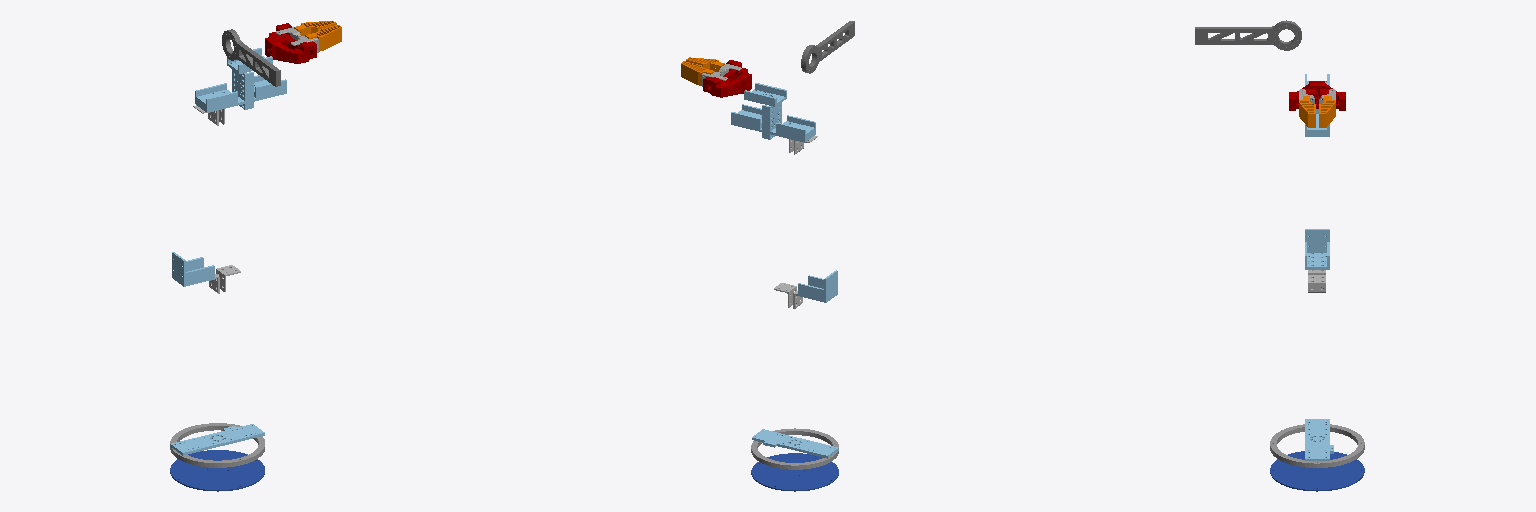
The robot description file, URDF, robot "rescue_rangers_arm":
<?xml version="1.0" ?>
<!-- Generated using onshape-to-robot -->
<!-- Onshape document_id: dccc9867c88f4c00ebd285c5 / workspace_id: 4d6b4b67b32ea734f124cf6d -->
<robot name="rescue_rangers_arm">
  <!-- Link part_5 -->
  <link name="part_5">
    <inertial>
      <origin xyz="0 0 0" rpy="0 0 0"/>
      <mass value="1e-09"/>
      <inertia ixx="1e-09" ixy="0" ixz="0" iyy="1e-09" iyz="0" izz="1e-09"/>
    </inertial>
    <!-- Part part_2 -->
    <visual>
      <origin xyz="0 0 0.07648" rpy="0 -0 0"/>
      <geometry>
        <mesh filename="package://rover_description/RescueRangersArmMeshes/part_2.stl"/>
      </geometry>
      <material name="part_2_material">
        <color rgba="0.647059 0.647059 0.647059 1"/>
      </material>
    </visual>
    <collision>
      <origin xyz="0 0 0.07648" rpy="0 -0 0"/>
      <geometry>
        <mesh filename="package://rover_description/RescueRangersArmMeshes/part_2.stl"/>
      </geometry>
    </collision>
    <!-- Part part_5 -->
    <visual>
      <origin xyz="0 0 0.07648" rpy="0 -0 0"/>
      <geometry>
        <mesh filename="package://rover_description/RescueRangersArmMeshes/part_5.stl"/>
      </geometry>
      <material name="part_5_material">
        <color rgba="0.917647 0.917647 0.917647 1"/>
      </material>
    </visual>
    <collision>
      <origin xyz="0 0 0.07648" rpy="0 -0 0"/>
      <geometry>
        <mesh filename="package://rover_description/RescueRangersArmMeshes/part_5.stl"/>
      </geometry>
    </collision>
    <!-- Part part_4 -->
    <visual>
      <origin xyz="0 0 0.07648" rpy="0 -0 0"/>
      <geometry>
        <mesh filename="package://rover_description/RescueRangersArmMeshes/part_4.stl"/>
      </geometry>
      <material name="part_4_material">
        <color rgba="0.231373 0.380392 0.705882 1"/>
      </material>
    </visual>
    <collision>
      <origin xyz="0 0 0.07648" rpy="0 -0 0"/>
      <geometry>
        <mesh filename="package://rover_description/RescueRangersArmMeshes/part_4.stl"/>
      </geometry>
    </collision>
    <!-- Part h42p_020_s300_r_dummy2 -->
    <visual>
      <origin xyz="0 0 0.07796" rpy="0 -0 0"/>
      <geometry>
        <mesh filename="package://rover_description/RescueRangersArmMeshes/h42p_020_s300_r_dummy2.stl"/>
      </geometry>
      <material name="h42p_020_s300_r_dummy2_material">
        <color rgba="0.647059 0.647059 0.647059 1"/>
      </material>
    </visual>
    <collision>
      <origin xyz="0 0 0.07796" rpy="0 -0 0"/>
      <geometry>
        <mesh filename="package://rover_description/RescueRangersArmMeshes/h42p_020_s300_r_dummy2.stl"/>
      </geometry>
    </collision>
  </link>
  <!-- Link part_5_2 -->
  <link name="part_5_2">
    <inertial>
      <origin xyz="0.0571222 -2.14999e-05 -0.0417006" rpy="0 0 0"/>
      <mass value="0.429704"/>
      <inertia ixx="0.000156694" ixy="5.7855e-08" ixz="-4.85178e-07" iyy="0.000333664" iyz="-1.9257e-08" izz="0.000305476"/>
    </inertial>
    <!-- Part h42p_020_s300_r_dummy2_2 -->
    <visual>
      <origin xyz="0.0696944 -0.0210112 -0.04605" rpy="-1.5708 0 -0"/>
      <geometry>
        <mesh filename="package://rover_description/RescueRangersArmMeshes/h42p_020_s300_r_dummy2__2.stl"/>
      </geometry>
      <material name="h42p_020_s300_r_dummy2_2_material">
        <color rgba="0.647059 0.647059 0.647059 1"/>
      </material>
    </visual>
    <collision>
      <origin xyz="0.0696944 -0.0210112 -0.04605" rpy="-1.5708 0 -0"/>
      <geometry>
        <mesh filename="package://rover_description/RescueRangersArmMeshes/h42p_020_s300_r_dummy2__2.stl"/>
      </geometry>
    </collision>
    <!-- Part j2 -->
    <visual>
      <origin xyz="-5.6e-06 -1.12e-05 -0.01235" rpy="3.14159 -0 0"/>
      <geometry>
        <mesh filename="package://rover_description/RescueRangersArmMeshes/j2.stl"/>
      </geometry>
      <material name="j2_material">
        <color rgba="0.615686 0.811765 0.929412 1"/>
      </material>
    </visual>
    <collision>
      <origin xyz="-5.6e-06 -1.12e-05 -0.01235" rpy="3.14159 -0 0"/>
      <geometry>
        <mesh filename="package://rover_description/RescueRangersArmMeshes/j2.stl"/>
      </geometry>
    </collision>
    <!-- Part part_5_2 -->
    <visual>
      <origin xyz="-5.6e-06 -1.12e-05 -0.01235" rpy="3.14159 -0 0"/>
      <geometry>
        <mesh filename="package://rover_description/RescueRangersArmMeshes/part_5__2.stl"/>
      </geometry>
      <material name="part_5_2_material">
        <color rgba="0.231373 0.380392 0.705882 1"/>
      </material>
    </visual>
    <collision>
      <origin xyz="-5.6e-06 -1.12e-05 -0.01235" rpy="3.14159 -0 0"/>
      <geometry>
        <mesh filename="package://rover_description/RescueRangersArmMeshes/part_5__2.stl"/>
      </geometry>
    </collision>
    <!-- Part part_3 -->
    <visual>
      <origin xyz="-0 0 0.01052" rpy="-3.14159 -0 -0"/>
      <geometry>
        <mesh filename="package://rover_description/RescueRangersArmMeshes/part_3.stl"/>
      </geometry>
      <material name="part_3_material">
        <color rgba="0.647059 0.647059 0.647059 1"/>
      </material>
    </visual>
    <collision>
      <origin xyz="-0 0 0.01052" rpy="-3.14159 -0 -0"/>
      <geometry>
        <mesh filename="package://rover_description/RescueRangersArmMeshes/part_3.stl"/>
      </geometry>
    </collision>
  </link>
  <!-- Link h42p_020_s300_r_dummy2 -->
  <link name="h42p_020_s300_r_dummy2">
    <inertial>
      <origin xyz="0.378757 7.70642e-06 0.0213274" rpy="0 0 0"/>
      <mass value="0.574313"/>
      <inertia ixx="0.0014911" ixy="-4.7539e-08" ixz="-0.000209936" iyy="0.00155843" iyz="-1.46817e-07" izz="0.000277042"/>
    </inertial>
    <!-- Part imported1 -->
    <visual>
      <origin xyz="0.33 0 -0.03905" rpy="-3.14159 0 -1.5708"/>
      <geometry>
        <mesh filename="package://rover_description/RescueRangersArmMeshes/imported1.stl"/>
      </geometry>
      <material name="imported1_material">
        <color rgba="0.752941 0.752941 0.752941 1"/>
      </material>
    </visual>
    <collision>
      <origin xyz="0.33 0 -0.03905" rpy="-3.14159 0 -1.5708"/>
      <geometry>
        <mesh filename="package://rover_description/RescueRangersArmMeshes/imported1.stl"/>
      </geometry>
    </collision>
    <!-- Part motoratt2 -->
    <visual>
      <origin xyz="-0.06152 0 -0.0127" rpy="-0 1.5708 0"/>
      <geometry>
        <mesh filename="package://rover_description/RescueRangersArmMeshes/motoratt2.stl"/>
      </geometry>
      <material name="motoratt2_material">
        <color rgba="0.498039 0.498039 0.498039 1"/>
      </material>
    </visual>
    <collision>
      <origin xyz="-0.06152 0 -0.0127" rpy="-0 1.5708 0"/>
      <geometry>
        <mesh filename="package://rover_description/RescueRangersArmMeshes/motoratt2.stl"/>
      </geometry>
    </collision>
    <!-- Part imported1_2 -->
    <visual>
      <origin xyz="0.33 0 0.01365" rpy="1.5708 0 -1.5708"/>
      <geometry>
        <mesh filename="package://rover_description/RescueRangersArmMeshes/imported1.stl"/>
      </geometry>
      <material name="imported1_2_material">
        <color rgba="0.752941 0.752941 0.752941 1"/>
      </material>
    </visual>
    <collision>
      <origin xyz="0.33 0 0.01365" rpy="1.5708 0 -1.5708"/>
      <geometry>
        <mesh filename="package://rover_description/RescueRangersArmMeshes/imported1.stl"/>
      </geometry>
    </collision>
    <!-- Part armlink -->
    <visual>
      <origin xyz="0 -0.06152 -0.0127" rpy="-1.5708 -1.5708 0"/>
      <geometry>
        <mesh filename="package://rover_description/RescueRangersArmMeshes/armlink.stl"/>
      </geometry>
      <material name="armlink_material">
        <color rgba="0.498039 0.498039 0.498039 1"/>
      </material>
    </visual>
    <collision>
      <origin xyz="0 -0.06152 -0.0127" rpy="-1.5708 -1.5708 0"/>
      <geometry>
        <mesh filename="package://rover_description/RescueRangersArmMeshes/armlink.stl"/>
      </geometry>
    </collision>
    <!-- Part h42p_020_s300_r_dummy2_3 -->
    <visual>
      <origin xyz="0.3895 0.021 0.054" rpy="1.5708 -1.5708 0"/>
      <geometry>
        <mesh filename="package://rover_description/RescueRangersArmMeshes/h42p_020_s300_r_dummy2__2.stl"/>
      </geometry>
      <material name="h42p_020_s300_r_dummy2_3_material">
        <color rgba="0.647059 0.647059 0.647059 1"/>
      </material>
    </visual>
    <collision>
      <origin xyz="0.3895 0.021 0.054" rpy="1.5708 -1.5708 0"/>
      <geometry>
        <mesh filename="package://rover_description/RescueRangersArmMeshes/h42p_020_s300_r_dummy2__2.stl"/>
      </geometry>
    </collision>
    <!-- Part j3 -->
    <visual>
      <origin xyz="0.356 0 -0.0127" rpy="-3.14159 -1.5708 0"/>
      <geometry>
        <mesh filename="package://rover_description/RescueRangersArmMeshes/j3.stl"/>
      </geometry>
      <material name="j3_material">
        <color rgba="0.615686 0.811765 0.929412 1"/>
      </material>
    </visual>
    <collision>
      <origin xyz="0.356 0 -0.0127" rpy="-3.14159 -1.5708 0"/>
      <geometry>
        <mesh filename="package://rover_description/RescueRangersArmMeshes/j3.stl"/>
      </geometry>
    </collision>
  </link>
  <!-- Link j3 -->
  <link name="j3">
    <inertial>
      <origin xyz="-0.375307 -1.03573e-05 -0.00582122" rpy="0 0 0"/>
      <mass value="0.427322"/>
      <inertia ixx="0.000326967" ixy="-7.489e-09" ixz="6.14747e-07" iyy="0.000326067" iyz="-4.603e-08" izz="0.000141634"/>
    </inertial>
    <!-- Part j3_2 -->
    <visual>
      <origin xyz="-0.356 -0 0.0468456" rpy="0 -1.5708 0"/>
      <geometry>
        <mesh filename="package://rover_description/RescueRangersArmMeshes/j3__2.stl"/>
      </geometry>
      <material name="j3_2_material">
        <color rgba="0.615686 0.811765 0.929412 1"/>
      </material>
    </visual>
    <collision>
      <origin xyz="-0.356 -0 0.0468456" rpy="0 -1.5708 0"/>
      <geometry>
        <mesh filename="package://rover_description/RescueRangersArmMeshes/j3__2.stl"/>
      </geometry>
    </collision>
    <!-- Part h42p_020_s300_r_dummy2_4 -->
    <visual>
      <origin xyz="-0.377 -0.021 -0.0157215" rpy="-1.5708 -1.5708 0"/>
      <geometry>
        <mesh filename="package://rover_description/RescueRangersArmMeshes/h42p_020_s300_r_dummy2__3.stl"/>
      </geometry>
      <material name="h42p_020_s300_r_dummy2_4_material">
        <color rgba="0.647059 0.647059 0.647059 1"/>
      </material>
    </visual>
    <collision>
      <origin xyz="-0.377 -0.021 -0.0157215" rpy="-1.5708 -1.5708 0"/>
      <geometry>
        <mesh filename="package://rover_description/RescueRangersArmMeshes/h42p_020_s300_r_dummy2__3.stl"/>
      </geometry>
    </collision>
    <!-- Part imported1_3 -->
    <visual>
      <origin xyz="-0.33 -0 -0.03835" rpy="-1.5708 0 -1.5708"/>
      <geometry>
        <mesh filename="package://rover_description/RescueRangersArmMeshes/imported1.stl"/>
      </geometry>
      <material name="imported1_3_material">
        <color rgba="0.752941 0.752941 0.752941 1"/>
      </material>
    </visual>
    <collision>
      <origin xyz="-0.33 -0 -0.03835" rpy="-1.5708 0 -1.5708"/>
      <geometry>
        <mesh filename="package://rover_description/RescueRangersArmMeshes/imported1.stl"/>
      </geometry>
    </collision>
    <!-- Part imported1_4 -->
    <visual>
      <origin xyz="-0.33 -0 0.01365" rpy="1.5708 -0 1.5708"/>
      <geometry>
        <mesh filename="package://rover_description/RescueRangersArmMeshes/imported1.stl"/>
      </geometry>
      <material name="imported1_4_material">
        <color rgba="0.752941 0.752941 0.752941 1"/>
      </material>
    </visual>
    <collision>
      <origin xyz="-0.33 -0 0.01365" rpy="1.5708 -0 1.5708"/>
      <geometry>
        <mesh filename="package://rover_description/RescueRangersArmMeshes/imported1.stl"/>
      </geometry>
    </collision>
    <!-- Part motoratt2_2 -->
    <visual>
      <origin xyz="-0.06152 -0 -0.0127" rpy="-0 1.5708 0"/>
      <geometry>
        <mesh filename="package://rover_description/RescueRangersArmMeshes/motoratt2.stl"/>
      </geometry>
      <material name="motoratt2_2_material">
        <color rgba="0.498039 0.498039 0.498039 1"/>
      </material>
    </visual>
    <collision>
      <origin xyz="-0.06152 -0 -0.0127" rpy="-0 1.5708 0"/>
      <geometry>
        <mesh filename="package://rover_description/RescueRangersArmMeshes/motoratt2.stl"/>
      </geometry>
    </collision>
    <!-- Part armlink_2 -->
    <visual>
      <origin xyz="0 -0 -0.01235" rpy="1.5708 -1.5708 0"/>
      <geometry>
        <mesh filename="package://rover_description/RescueRangersArmMeshes/armlink__2.stl"/>
      </geometry>
      <material name="armlink_2_material">
        <color rgba="0.498039 0.498039 0.498039 1"/>
      </material>
    </visual>
    <collision>
      <origin xyz="0 -0 -0.01235" rpy="1.5708 -1.5708 0"/>
      <geometry>
        <mesh filename="package://rover_description/RescueRangersArmMeshes/armlink__2.stl"/>
      </geometry>
    </collision>
  </link>
  <!-- Link h42p_020_s300_r_dummy2_2 -->
  <link name="h42p_020_s300_r_dummy2_2">
    <inertial>
      <origin xyz="-0.000621338 1.22476e-05 -0.027" rpy="0 0 0"/>
      <mass value="0.361369"/>
      <inertia ixx="9.75729e-05" ixy="-5.8073e-08" ixz="-1e-12" iyy="0.000248567" iyz="3e-12" izz="0.000249069"/>
    </inertial>
    <!-- Part h42p_020_s300_r_dummy2_5 -->
    <visual>
      <origin xyz="0.012 0.021 -0.027" rpy="-1.5708 -0 3.14159"/>
      <geometry>
        <mesh filename="package://rover_description/RescueRangersArmMeshes/h42p_020_s300_r_dummy2__3.stl"/>
      </geometry>
      <material name="h42p_020_s300_r_dummy2_5_material">
        <color rgba="0.647059 0.647059 0.647059 1"/>
      </material>
    </visual>
    <collision>
      <origin xyz="0.012 0.021 -0.027" rpy="-1.5708 -0 3.14159"/>
      <geometry>
        <mesh filename="package://rover_description/RescueRangersArmMeshes/h42p_020_s300_r_dummy2__3.stl"/>
      </geometry>
    </collision>
    <!-- Part j5 -->
    <visual>
      <origin xyz="-0 0 -0.006" rpy="-3.14159 -0 -0"/>
      <geometry>
        <mesh filename="package://rover_description/RescueRangersArmMeshes/j5.stl"/>
      </geometry>
      <material name="j5_material">
        <color rgba="0.615686 0.811765 0.929412 1"/>
      </material>
    </visual>
    <collision>
      <origin xyz="-0 0 -0.006" rpy="-3.14159 -0 -0"/>
      <geometry>
        <mesh filename="package://rover_description/RescueRangersArmMeshes/j5.stl"/>
      </geometry>
    </collision>
  </link>
  <!-- Link j5 -->
  <link name="j5">
    <inertial>
      <origin xyz="0.000621338 1.22476e-05 -0.027" rpy="0 0 0"/>
      <mass value="0.361369"/>
      <inertia ixx="9.75729e-05" ixy="5.8073e-08" ixz="-1e-12" iyy="0.000248567" iyz="-3e-12" izz="0.000249069"/>
    </inertial>
    <!-- Part h42p_020_s300_r_dummy2_6 -->
    <visual>
      <origin xyz="-0.012 0.021 -0.027" rpy="1.5708 0 -0"/>
      <geometry>
        <mesh filename="package://rover_description/RescueRangersArmMeshes/h42p_020_s300_r_dummy2__3.stl"/>
      </geometry>
      <material name="h42p_020_s300_r_dummy2_6_material">
        <color rgba="0.647059 0.647059 0.647059 1"/>
      </material>
    </visual>
    <collision>
      <origin xyz="-0.012 0.021 -0.027" rpy="1.5708 0 -0"/>
      <geometry>
        <mesh filename="package://rover_description/RescueRangersArmMeshes/h42p_020_s300_r_dummy2__3.stl"/>
      </geometry>
    </collision>
    <!-- Part j5_2 -->
    <visual>
      <origin xyz="-0 0 -0.006" rpy="3.14159 -0 -3.14159"/>
      <geometry>
        <mesh filename="package://rover_description/RescueRangersArmMeshes/j5.stl"/>
      </geometry>
      <material name="j5_2_material">
        <color rgba="0.615686 0.811765 0.929412 1"/>
      </material>
    </visual>
    <collision>
      <origin xyz="-0 0 -0.006" rpy="3.14159 -0 -3.14159"/>
      <geometry>
        <mesh filename="package://rover_description/RescueRangersArmMeshes/j5.stl"/>
      </geometry>
    </collision>
  </link>
  <!-- Link frame -->
  <link name="frame">
    <inertial>
      <origin xyz="0.00354375 -0.00222972 -0.0410026" rpy="0 0 0"/>
      <mass value="0.183726"/>
      <inertia ixx="0.000316" ixy="1.71807e-06" ixz="-1.23452e-06" iyy="0.000102139" iyz="-1.55637e-06" izz="0.000246551"/>
    </inertial>
    <!-- Part frame -->
    <visual>
      <origin xyz="-0 0 -0.055" rpy="-1.5708 0 -1.5708"/>
      <geometry>
        <mesh filename="package://rover_description/RescueRangersArmMeshes/frame.stl"/>
      </geometry>
      <material name="frame_material">
        <color rgba="0.698039 0 0 1"/>
      </material>
    </visual>
    <collision>
      <origin xyz="-0 0 -0.055" rpy="-1.5708 0 -1.5708"/>
      <geometry>
        <mesh filename="package://rover_description/RescueRangersArmMeshes/frame.stl"/>
      </geometry>
    </collision>
    <!-- Part gripper_tpu -->
    <visual>
      <origin xyz="0.03915 0.0165996 -0.0547135" rpy="-1.5708 0 1.5708"/>
      <geometry>
        <mesh filename="package://rover_description/RescueRangersArmMeshes/gripper_tpu.stl"/>
      </geometry>
      <material name="gripper_tpu_material">
        <color rgba="0.972549 0.529412 0.00392157 1"/>
      </material>
    </visual>
    <collision>
      <origin xyz="0.03915 0.0165996 -0.0547135" rpy="-1.5708 0 1.5708"/>
      <geometry>
        <mesh filename="package://rover_description/RescueRangersArmMeshes/gripper_tpu.stl"/>
      </geometry>
    </collision>
    <!-- Part gripper_tpu_2 -->
    <visual>
      <origin xyz="-0.04665 -0.0165996 -0.0547135" rpy="-1.5708 0 -1.5708"/>
      <geometry>
        <mesh filename="package://rover_description/RescueRangersArmMeshes/gripper_tpu.stl"/>
      </geometry>
      <material name="gripper_tpu_2_material">
        <color rgba="0.972549 0.529412 0.00392157 1"/>
      </material>
    </visual>
    <collision>
      <origin xyz="-0.04665 -0.0165996 -0.0547135" rpy="-1.5708 0 -1.5708"/>
      <geometry>
        <mesh filename="package://rover_description/RescueRangersArmMeshes/gripper_tpu.stl"/>
      </geometry>
    </collision>
    <!-- Part blocco_dito -->
    <visual>
      <origin xyz="-0.00374999 -0.039 -0.0736" rpy="-1.5708 0 1.5708"/>
      <geometry>
        <mesh filename="package://rover_description/RescueRangersArmMeshes/blocco_dito.stl"/>
      </geometry>
      <material name="blocco_dito_material">
        <color rgba="0.698039 0.698039 0.698039 1"/>
      </material>
    </visual>
    <collision>
      <origin xyz="-0.00374999 -0.039 -0.0736" rpy="-1.5708 0 1.5708"/>
      <geometry>
        <mesh filename="package://rover_description/RescueRangersArmMeshes/blocco_dito.stl"/>
      </geometry>
    </collision>
    <!-- Part blocco_dito_mirror -->
    <visual>
      <origin xyz="-0.00374999 -0.031 -0.0736" rpy="-1.5708 0 1.5708"/>
      <geometry>
        <mesh filename="package://rover_description/RescueRangersArmMeshes/blocco_dito_mirror.stl"/>
      </geometry>
      <material name="blocco_dito_mirror_material">
        <color rgba="0.698039 0.698039 0.698039 1"/>
      </material>
    </visual>
    <collision>
      <origin xyz="-0.00374999 -0.031 -0.0736" rpy="-1.5708 0 1.5708"/>
      <geometry>
        <mesh filename="package://rover_description/RescueRangersArmMeshes/blocco_dito_mirror.stl"/>
      </geometry>
    </collision>
  </link>
  <!-- Joint from j5 to frame -->
  <joint name="j5" type="revolute">
    <origin xyz="0.045 3.91302e-05 -0.027" rpy="-0 -1.5708 0"/>
    <parent link="j5"/>
    <child link="frame"/>
    <axis xyz="0 0 1"/>
    <limit effort="10" velocity="10" lower="-3.141592653589793" upper="3.141592653589793"/>
  </joint>
  <!-- Joint from h42p_020_s300_r_dummy2_2 to j5 -->
  <joint name="j4" type="revolute">
    <origin xyz="-0.045 -0 -0.027" rpy="0 1.5708 0"/>
    <parent link="h42p_020_s300_r_dummy2_2"/>
    <child link="j5"/>
    <axis xyz="0 0 1"/>
    <limit effort="10" velocity="10" lower="-4.71239" upper="4.71239"/>
  </joint>
  <!-- Joint from j3 to h42p_020_s300_r_dummy2_2 -->
  <joint name="j3" type="revolute">
    <origin xyz="-0.377 -0 0.0412785" rpy="-3.14159 0 0"/>
    <parent link="j3"/>
    <child link="h42p_020_s300_r_dummy2_2"/>
    <axis xyz="0 0 1"/>
    <limit effort="10" velocity="10" lower="-3.14159" upper="3.14159"/>
  </joint>
  <!-- Joint from h42p_020_s300_r_dummy2 to j3 -->
  <joint name="j2" type="revolute">
    <origin xyz="0.3895 0 -0.003" rpy="-0 0 3.14159"/>
    <parent link="h42p_020_s300_r_dummy2"/>
    <child link="j3"/>
    <axis xyz="0 0 1"/>
    <limit effort="10" velocity="10" lower="-1.5708" upper="1.5708"/>
  </joint>
  <!-- Joint from part_5_2 to h42p_020_s300_r_dummy2 -->
  <joint name="j1" type="revolute">
    <origin xyz="0.0126944 -1.12e-05 -0.04605" rpy="0 1.5708 0"/>
    <parent link="part_5_2"/>
    <child link="h42p_020_s300_r_dummy2"/>
    <axis xyz="0 0 1"/>
    <limit effort="10" velocity="10" lower="-1.5708" upper="1.5708"/>
  </joint>
  <!-- Joint from part_5 to part_5_2 -->
  <joint name="j0_base" type="revolute">
    <origin xyz="0 0 0.08598" rpy="3.14159 -0 0"/>
    <parent link="part_5"/>
    <child link="part_5_2"/>
    <axis xyz="0 0 1"/>
    <limit effort="10" velocity="10" lower="-0.785398" upper="0.785398"/>
  </joint>
</robot>

--- Render facts (derived) ---
The picture shows the robot from 3 angles, left to right: view 1: azimuth 30°, elevation 25°; view 2: azimuth 150°, elevation 25°; view 3: azimuth 270°, elevation 25°; orthographic projection.
Model rescue_rangers_arm with 7 links and 6 joints (6 revolute), rooted at part_5, posed every joint at zero.
Visible links, largest first — view 1: part_5_2, j3, frame, h42p_020_s300_r_dummy2, part_5, h42p_020_s300_r_dummy2_2; view 2: part_5_2, j3, frame, h42p_020_s300_r_dummy2, part_5, j5, h42p_020_s300_r_dummy2_2; view 3: part_5_2, j3, frame, h42p_020_s300_r_dummy2, part_5.
Boxes of the visible links, left/top/right/bottom form: part_5_2: left=170, top=424, right=264, bottom=491; j3: left=193, top=29, right=286, bottom=125; frame: left=265, top=21, right=341, bottom=63; h42p_020_s300_r_dummy2: left=172, top=252, right=240, bottom=293; part_5: left=170, top=423, right=264, bottom=467; h42p_020_s300_r_dummy2_2: left=232, top=69, right=253, bottom=109; part_5_2: left=751, top=429, right=838, bottom=491; j3: left=731, top=21, right=854, bottom=154; frame: left=681, top=57, right=751, bottom=97; h42p_020_s300_r_dummy2: left=774, top=270, right=837, bottom=308; part_5: left=751, top=428, right=838, bottom=469; j5: left=744, top=83, right=786, bottom=106; h42p_020_s300_r_dummy2_2: left=762, top=103, right=781, bottom=139; part_5_2: left=1270, top=419, right=1364, bottom=491; j3: left=1195, top=20, right=1329, bottom=136; frame: left=1289, top=81, right=1345, bottom=127; h42p_020_s300_r_dummy2: left=1305, top=229, right=1329, bottom=292; part_5: left=1270, top=424, right=1364, bottom=467.
Bounding box of the posed robot: 0.39 × 0.3578 × 1.05 m (x, y, z).
Meshes: 20 distinct files referenced, 17 mesh visuals loaded (12 binary STL); not drawn: 12 (reference not matched to a file when rendering).
